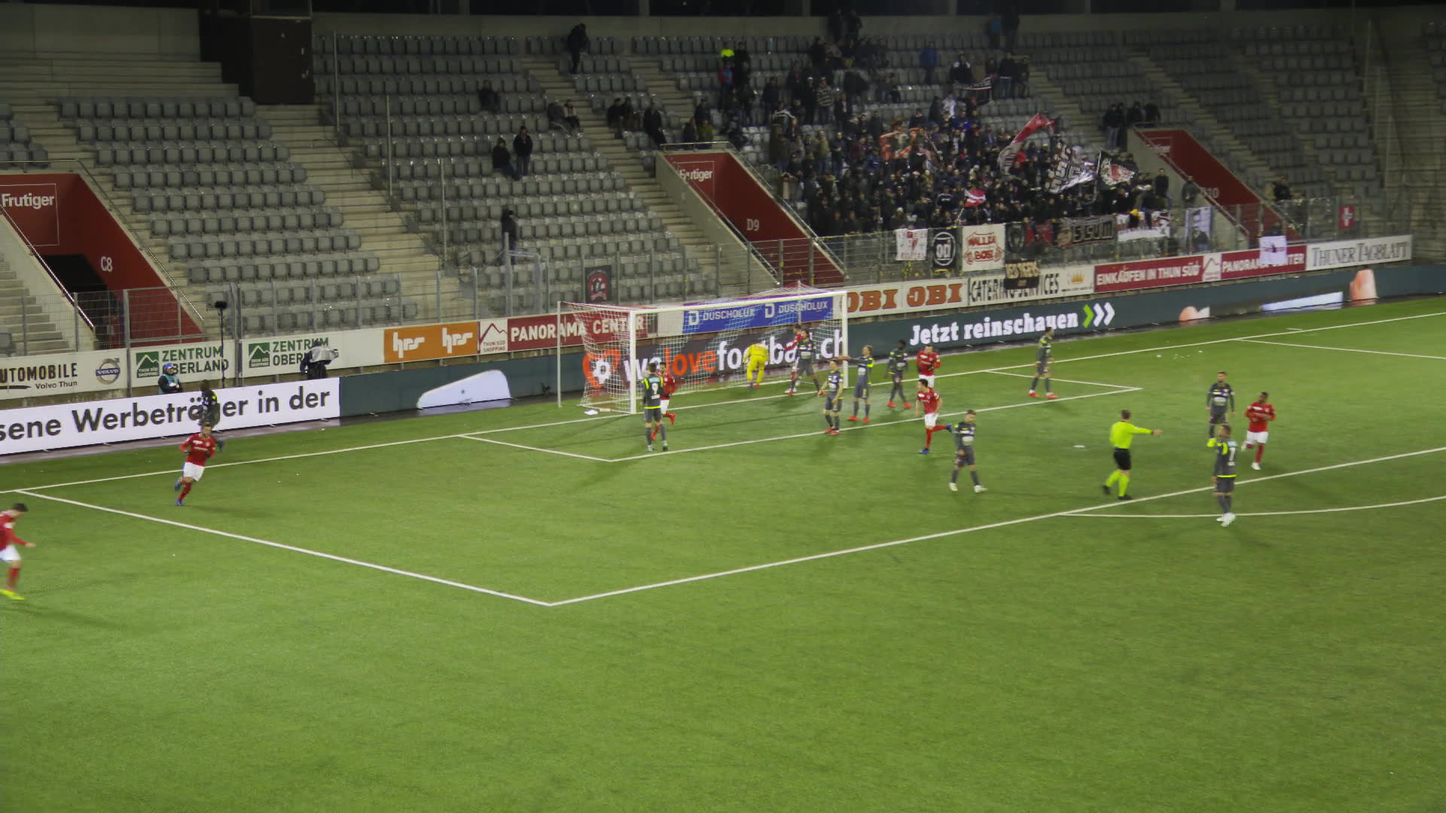ball: (740, 363, 747, 372)
player: (168, 420, 214, 507), (0, 498, 37, 605), (942, 407, 984, 493), (1200, 422, 1233, 527), (829, 344, 871, 424), (632, 361, 667, 453), (779, 327, 824, 398), (1233, 388, 1271, 470), (193, 376, 231, 456), (1196, 369, 1233, 451), (913, 374, 949, 454), (648, 359, 679, 440), (782, 322, 815, 394), (1020, 324, 1051, 399), (814, 358, 841, 437), (877, 336, 906, 408), (908, 342, 939, 402), (735, 340, 765, 392)
referee: (1086, 407, 1153, 501)
